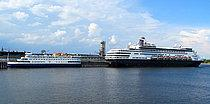Ship: (104, 35, 209, 70), (7, 49, 87, 70)
